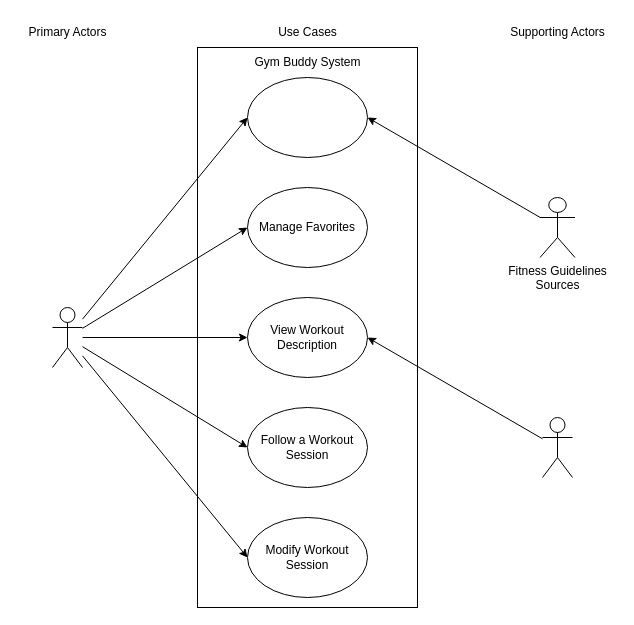
Image size: 634x625. Some labels were removed from this diagram. Here are the shapes that lost their labels. From the top down, the centre of each, then its label:
At pixel 307 117: "Set Goals/Targets".
At pixel 67 337: "User".
At pixel 557 447: "Workout Descriptions Sources".
